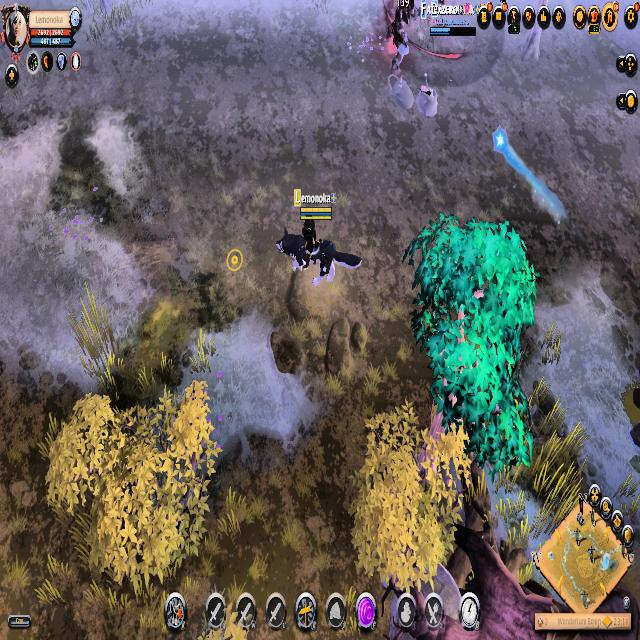wood tier 3: (402, 209, 538, 473)
